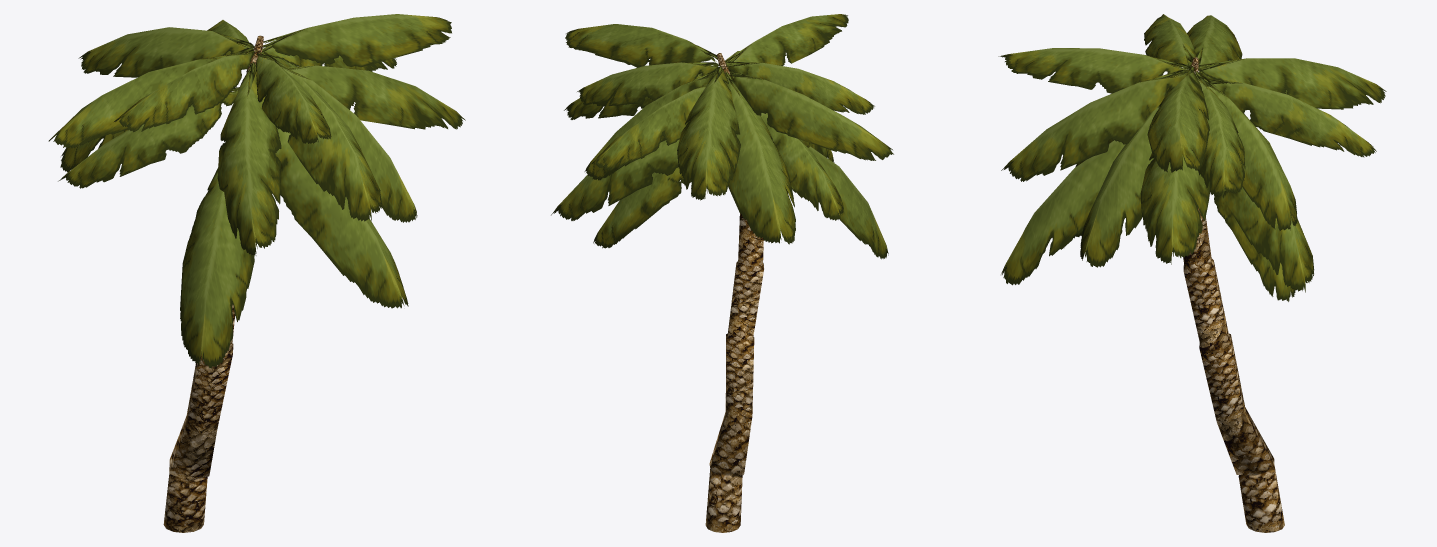
The model's file is SM_TI_Palm_Tree_3.fbx.
3 views of the same model, side by side, from view 1: azimuth 30°, elevation 25°; view 2: azimuth 150°, elevation 25°; view 3: azimuth 270°, elevation 25° (orthographic). The views are drawn at different scales.
Visible parts, largest first — view 1: SM_TI_Palm_Tree_3; view 2: SM_TI_Palm_Tree_3; view 3: SM_TI_Palm_Tree_3.
Boxes of the visible parts, x1,y1,x2,y2 form: SM_TI_Palm_Tree_3: (48,14,465,532); SM_TI_Palm_Tree_3: (551,14,893,532); SM_TI_Palm_Tree_3: (998,14,1386,532).
Bounding box in the file's own units: 8.63 × 7.79 × 9.02.
